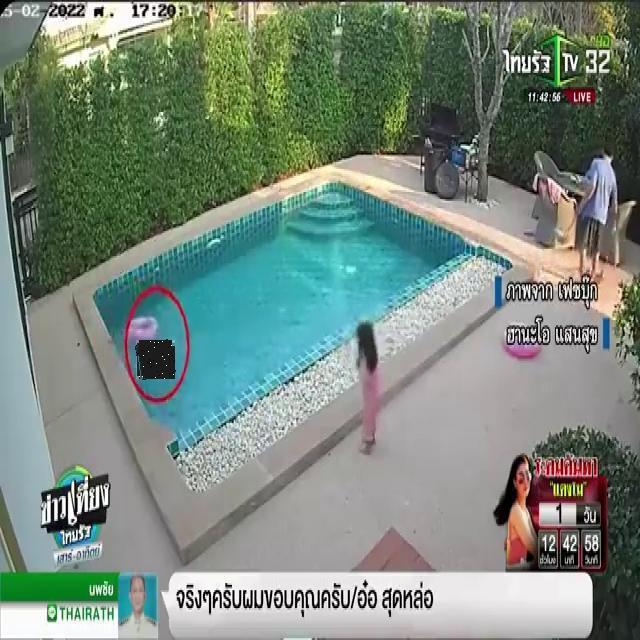Out of Water: (136, 340, 175, 379)
